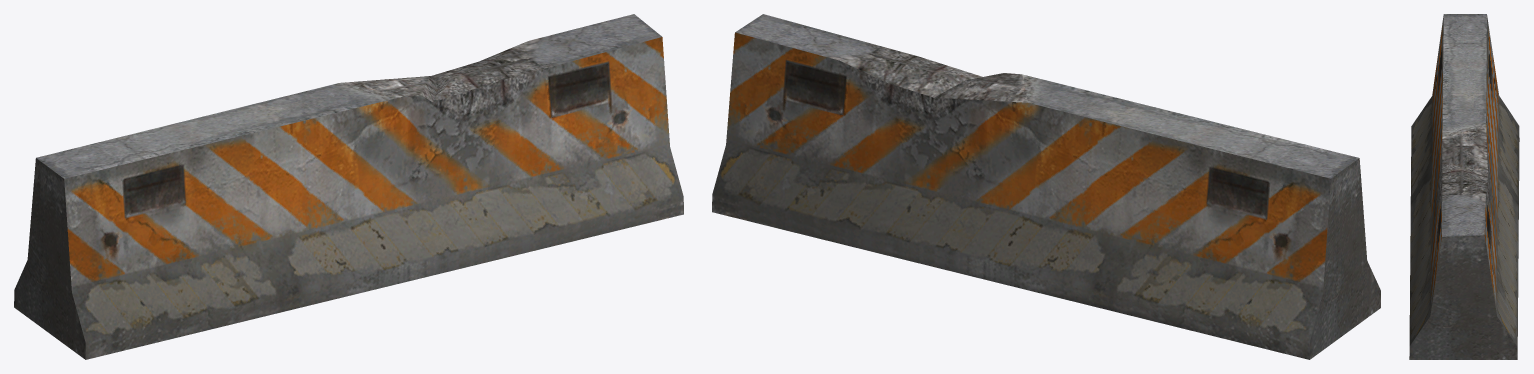
The model's file is Cover_RoadblockA.glb.
3 renders of one model, left to right at view 1: azimuth 30°, elevation 25°; view 2: azimuth 150°, elevation 25°; view 3: azimuth 270°, elevation 25°, orthographic. The views are drawn at different scales.
Parts seen in each view (by area): view 1: xiutz_roadblock_a; view 2: xiutz_roadblock_a; view 3: xiutz_roadblock_a.
Part boxes in pixels (bbox=[...]): xiutz_roadblock_a: bbox=[14, 14, 683, 359]; xiutz_roadblock_a: bbox=[712, 14, 1380, 359]; xiutz_roadblock_a: bbox=[1409, 14, 1519, 359].
Size of the model in its own units: 6.03 by 1.61 by 1.27.
1 material, 1 textured.
